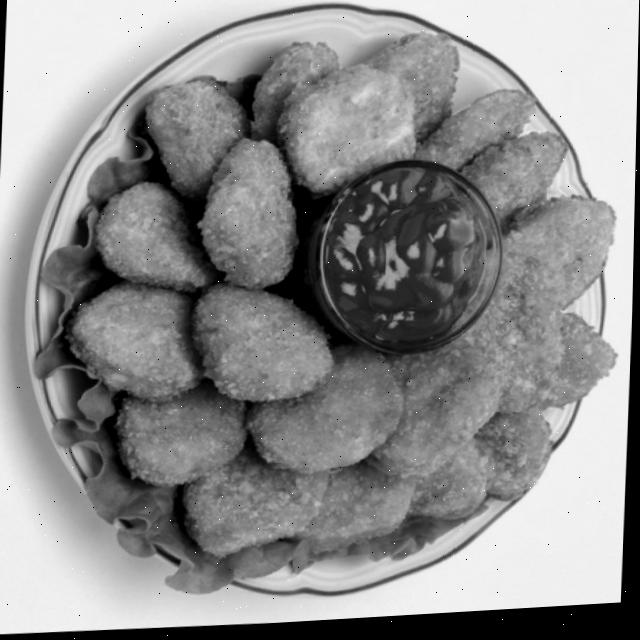鸡肉料理 含炸鸡: (5, 0, 628, 626)
